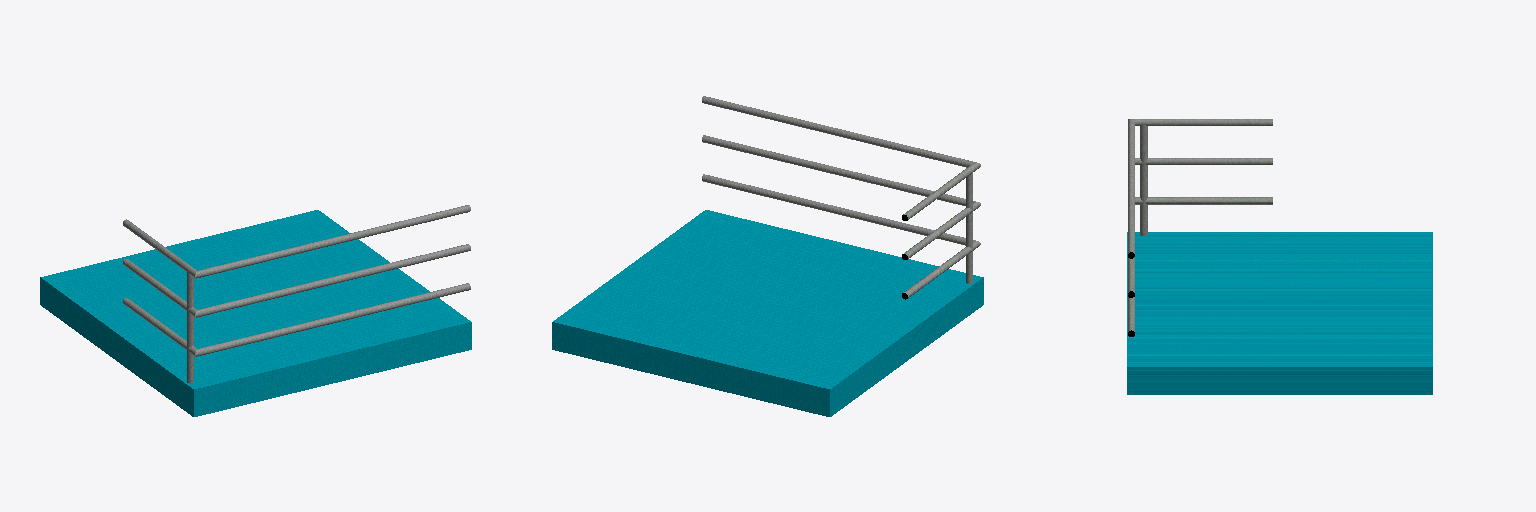
The picture shows the model from 3 angles: view 1: azimuth 30°, elevation 25°; view 2: azimuth 150°, elevation 25°; view 3: azimuth 270°, elevation 25°; orthographic projection.
Parts seen in each view (by area): view 1: balcon:Mesh10Group8Model1; view 2: balcon:Mesh10Group8Model1; view 3: balcon:Mesh10Group8Model1.
Boxes of the visible parts, x1,y1,x2,y2 form: balcon:Mesh10Group8Model1: [40, 205, 471, 416]; balcon:Mesh10Group8Model1: [552, 96, 983, 416]; balcon:Mesh10Group8Model1: [1127, 119, 1432, 394].
Size of the model in its own units: 2.6 by 1.28 by 2.49.
Materials: 4 (2 with a texture image).